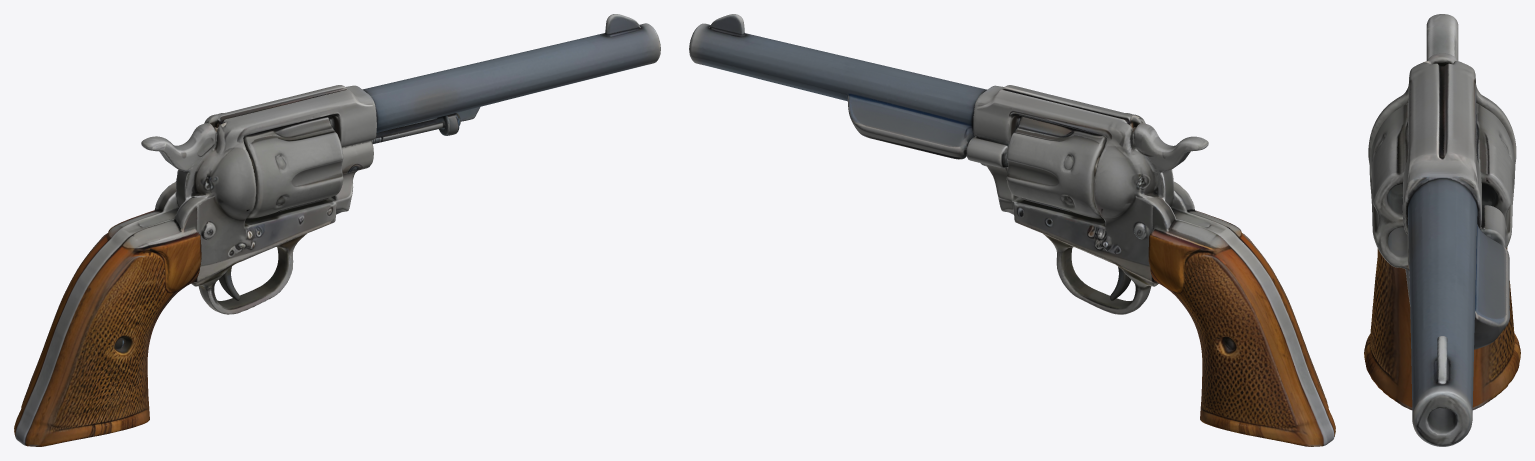
File: Revolver.glb
3 views of the same model, side by side, from view 1: azimuth 30°, elevation 25°; view 2: azimuth 150°, elevation 25°; view 3: azimuth 270°, elevation 25° (orthographic). The views are drawn at different scales.
Visible parts, largest first — view 1: tripo_node_2a5f798f-5e56-4537-873e-b8f19d0f50fe_0; view 2: tripo_node_2a5f798f-5e56-4537-873e-b8f19d0f50fe_0; view 3: tripo_node_2a5f798f-5e56-4537-873e-b8f19d0f50fe_0.
Part boxes in pixels (<box>): tripo_node_2a5f798f-5e56-4537-873e-b8f19d0f50fe_0: <box>14,14,660,446</box>; tripo_node_2a5f798f-5e56-4537-873e-b8f19d0f50fe_0: <box>689,14,1335,446</box>; tripo_node_2a5f798f-5e56-4537-873e-b8f19d0f50fe_0: <box>1364,14,1520,446</box>.
Bounding box in the file's own units: 1 × 0.4301 × 0.1431.
1 material, 1 textured.
